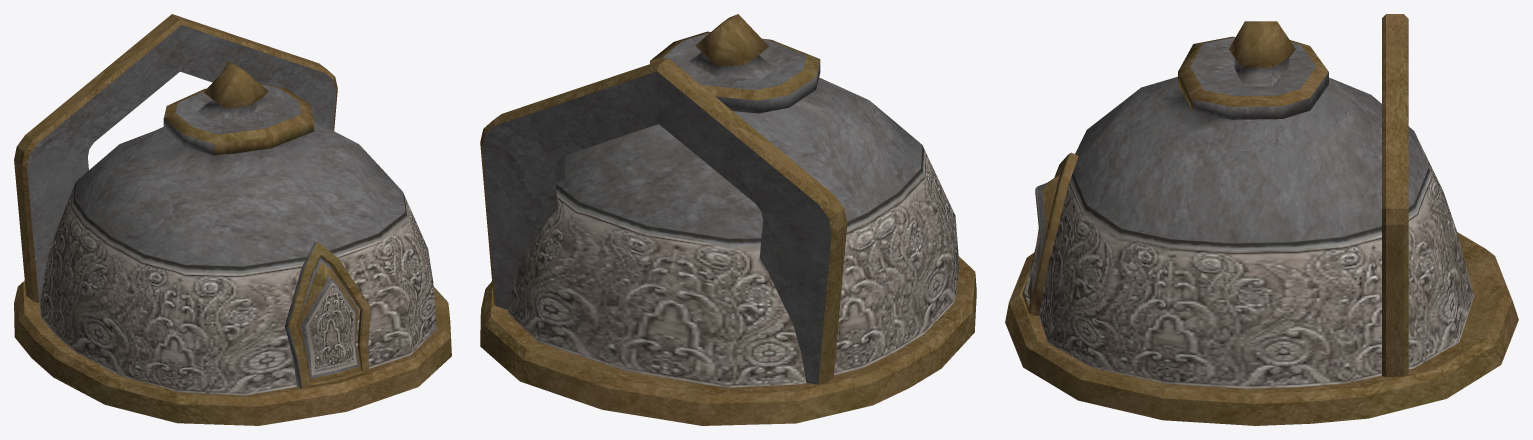
The model's file is HeadArmor2.fbx.
The picture shows the model from 3 angles, left to right: view 1: azimuth 30°, elevation 25°; view 2: azimuth 150°, elevation 25°; view 3: azimuth 270°, elevation 25°; orthographic projection. The views are drawn at different scales.
Visible parts, largest first — view 1: Helmet_1, Plane.001, Helmet_1.001; view 2: Helmet_1, Plane.001; view 3: Helmet_1, Plane.001, Helmet_1.001.
Part boxes in pixels (x1,y1,x2,y2): Helmet_1: (14,61,451,425); Plane.001: (14,14,337,302); Helmet_1.001: (284,242,370,388); Helmet_1: (480,14,976,425); Plane.001: (480,58,847,384); Helmet_1: (1005,21,1518,425); Plane.001: (1382,14,1408,377); Helmet_1.001: (1022,152,1078,315).
Size of the model in its own units: 9.54 by 6.77 by 10.11.
